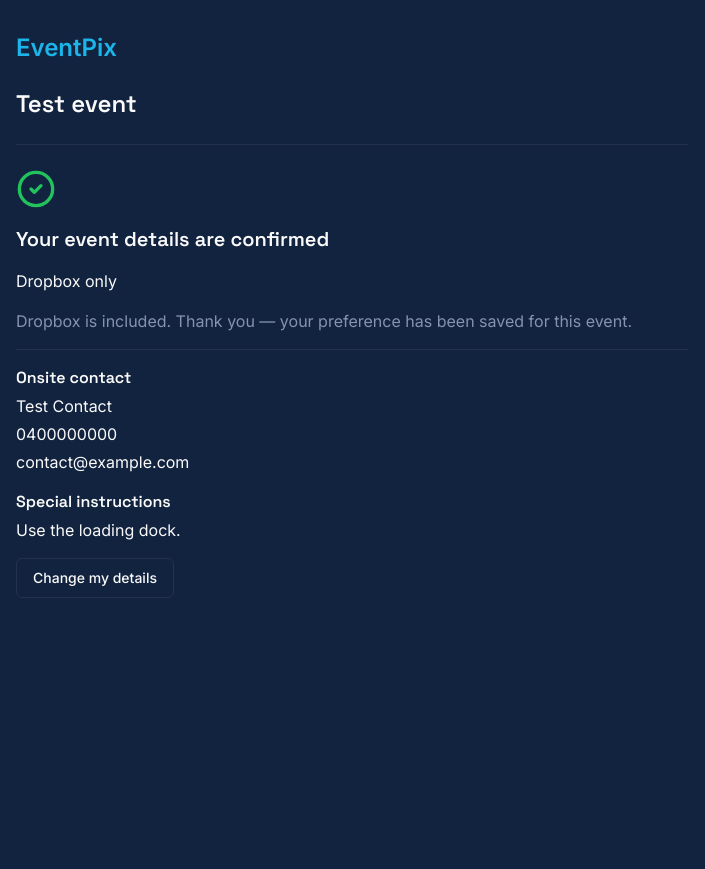
Test: client event confirmation › restores confirmed onsite details and instructions when the client edits their response
Click the button "Change my details".
click(95, 578)  # box [16,558,174,598]
(page scrolled)
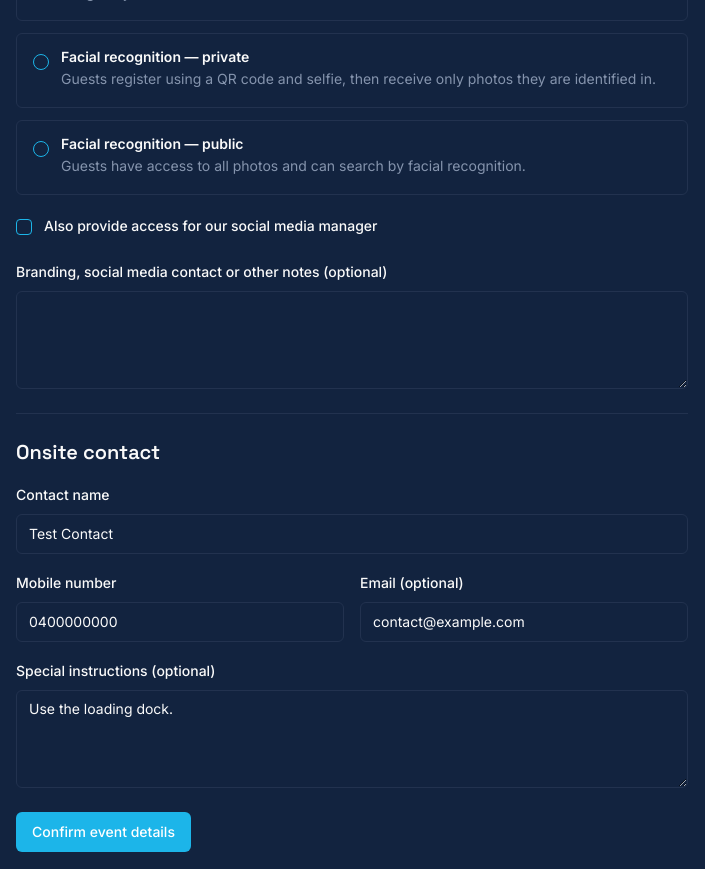
Expected: the field labelled "Contact name" holds "Test Contact", [16,514,688,554]
Expected: the field labelled "Mobile number" holds "0400000000", [16,602,344,642]
Expected: the text box labelled "Special instructions (optional)" holds "Use the loading dock.", [16,690,688,788]
